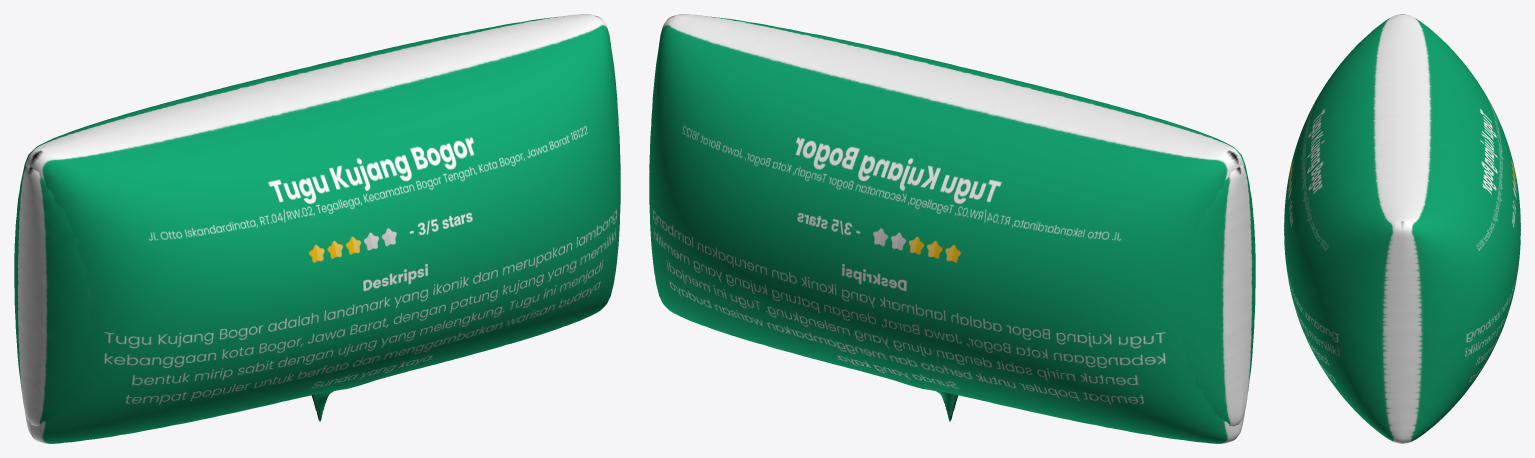
The model's file is bds-tugu-kujang.glb.
The picture shows the model from 3 angles, left to right: view 1: azimuth 30°, elevation 25°; view 2: azimuth 150°, elevation 25°; view 3: azimuth 270°, elevation 25°; orthographic projection. The views are drawn at different scales.
Parts seen in each view (by area): view 1: Mesh_0, Mesh_0.001; view 2: Mesh_0, Mesh_0.001; view 3: Mesh_0.
Part boxes in pixels (left/top/right/bottom): Mesh_0: left=22, top=14, right=620, bottom=443; Mesh_0.001: left=14, top=165, right=316, bottom=426; Mesh_0: left=649, top=14, right=1247, bottom=443; Mesh_0.001: left=953, top=165, right=1255, bottom=426; Mesh_0: left=1284, top=14, right=1520, bottom=443.
Bounding box in the file's own units: 2.27 × 1.28 × 1.06.
Materials: 2 (2 with a texture image).
